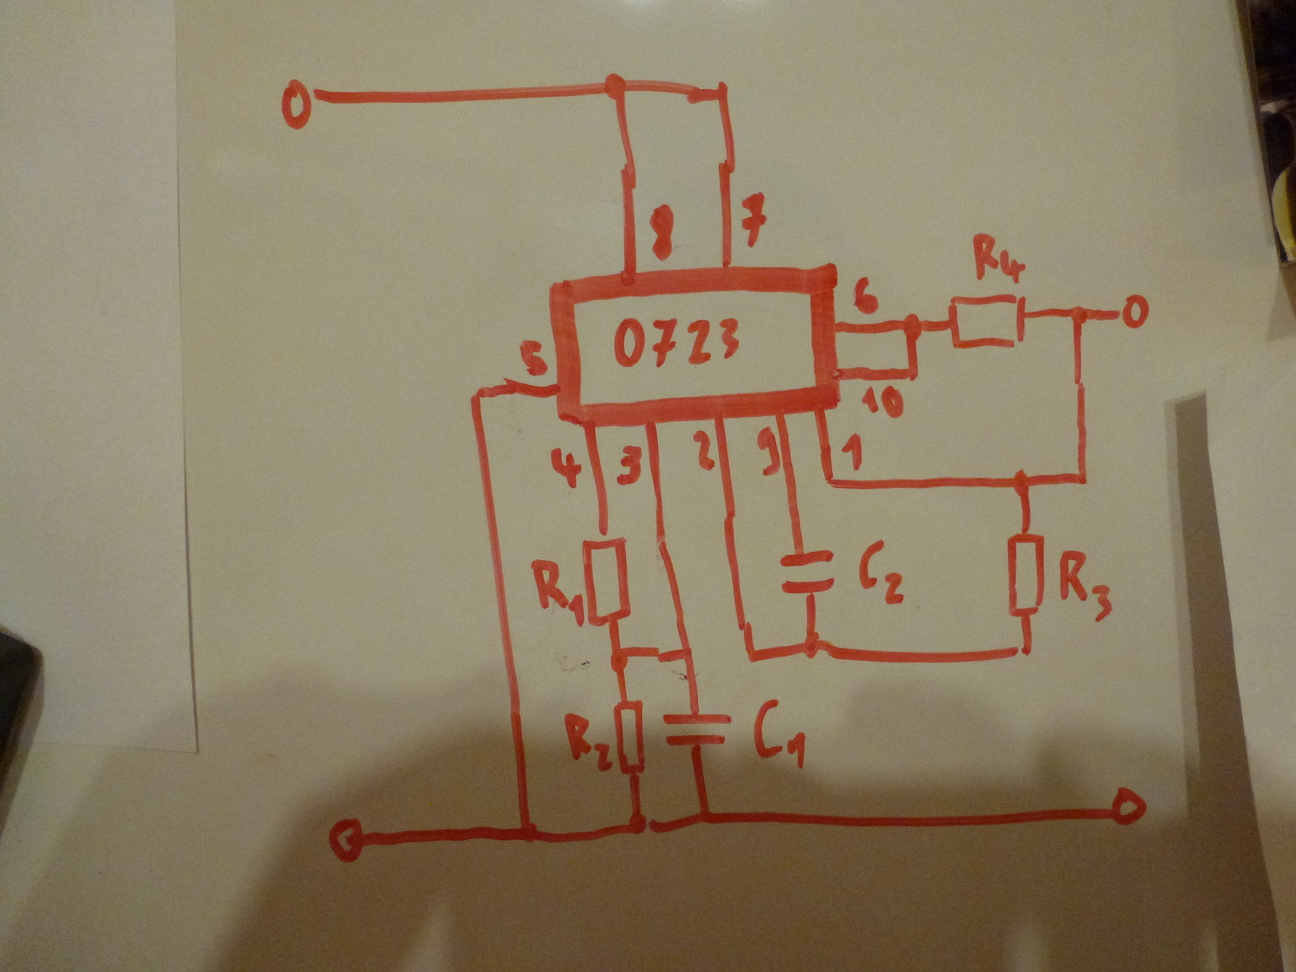capacitor.unpolarized: (659, 696, 734, 764), (775, 539, 844, 607)
integrated_circuit: (546, 263, 840, 427)
junction: (1005, 465, 1038, 501), (620, 809, 656, 841), (599, 69, 633, 103), (797, 629, 826, 665), (898, 309, 927, 344), (707, 75, 738, 106), (512, 818, 541, 849), (1066, 302, 1093, 333), (691, 803, 718, 830), (607, 645, 633, 675), (738, 643, 767, 669), (1010, 639, 1039, 664), (464, 382, 489, 408), (1070, 464, 1095, 490), (902, 359, 925, 385), (674, 642, 699, 664), (818, 471, 841, 491)
resistor: (945, 291, 1034, 357), (581, 525, 636, 631), (1001, 525, 1050, 622), (610, 693, 649, 778)
terminal: (278, 74, 335, 136), (321, 810, 379, 868), (1105, 783, 1151, 833), (1113, 292, 1156, 334)
text: (609, 311, 750, 374), (748, 694, 815, 776), (1055, 545, 1117, 624), (525, 555, 585, 631), (965, 227, 1033, 289), (856, 536, 912, 607), (561, 710, 614, 775), (643, 200, 691, 264), (734, 189, 775, 252), (859, 384, 910, 422), (547, 444, 586, 493), (748, 425, 782, 479), (513, 332, 551, 380), (847, 268, 881, 317), (611, 440, 645, 488), (837, 427, 869, 475), (689, 425, 716, 474)
